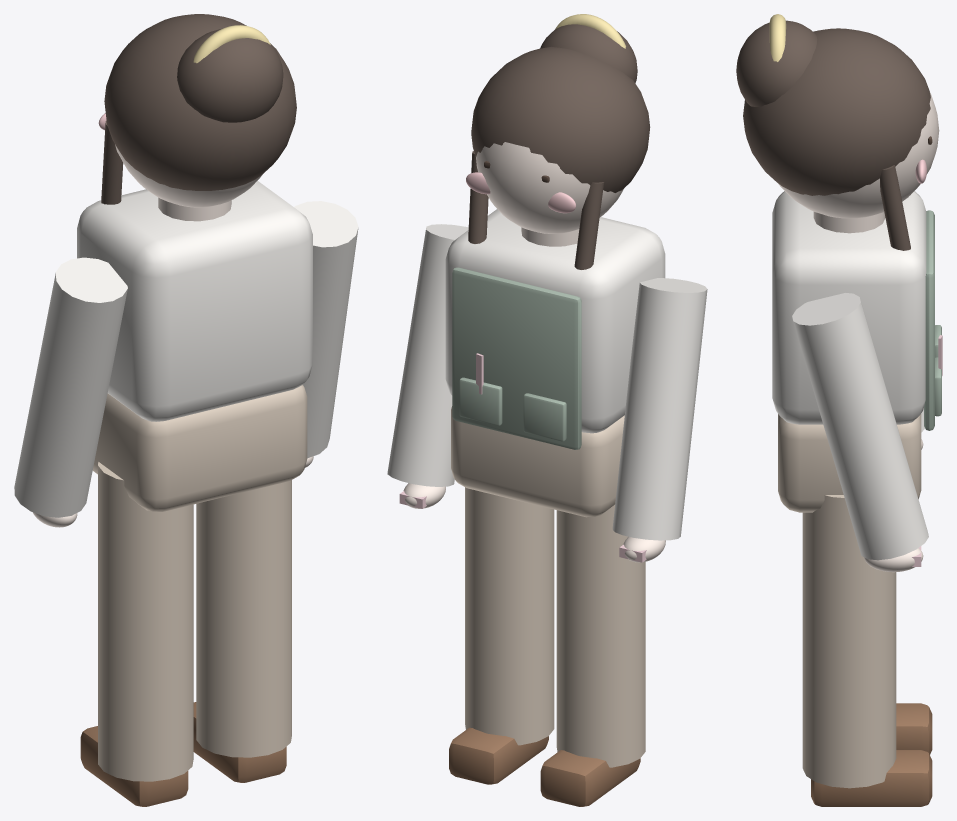
Rendered from eliya-artisan.glb.
The picture shows the model from 3 angles, left to right: view 1: azimuth 30°, elevation 25°; view 2: azimuth 150°, elevation 25°; view 3: azimuth 270°, elevation 25°; orthographic projection. The views are drawn at different scales.
Parts seen in each view (by area): view 1: eliya_Body, eliya_LeftLeg, eliya_RightLeg, eliya_HairTop, eliya_LeftArm, eliya_Hips, eliya_RightArm, eliya_HairBun, eliya_LeftShoe, eliya_RightShoe, eliya_Head, eliya_Tendril_-0.12 (+2 smaller); view 2: eliya_RightLeg, eliya_LeftLeg, eliya_Body, eliya_LeftArm, eliya_HairTop, eliya_ApronFront, eliya_Hips, eliya_RightArm, eliya_Head, eliya_LeftShoe, eliya_RightShoe, eliya_HairBun (+8 smaller); view 3: eliya_RightLeg, eliya_Body, eliya_HairTop, eliya_RightArm, eliya_Hips, eliya_HairBun, eliya_RightShoe, eliya_Head, eliya_ApronFront, eliya_LeftShoe, eliya_Tendril_0.12, eliya_Neck (+2 smaller).
Part boxes in pixels (x1,y1,x2,y2): eliya_Body: [77, 180, 312, 421]; eliya_LeftLeg: [98, 462, 193, 781]; eliya_RightLeg: [196, 480, 291, 757]; eliya_HairTop: [104, 14, 296, 190]; eliya_LeftArm: [14, 257, 127, 517]; eliya_Hips: [92, 385, 307, 511]; eliya_RightArm: [294, 201, 358, 458]; eliya_HairBun: [177, 28, 283, 122]; eliya_LeftShoe: [80, 726, 188, 806]; eliya_RightShoe: [193, 702, 286, 782]; eliya_Head: [115, 144, 262, 207]; eliya_Tendril_-0.12: [101, 120, 123, 204]; eliya_RightLeg: [465, 487, 554, 745]; eliya_LeftLeg: [556, 504, 645, 767]; eliya_Body: [445, 209, 665, 433]; eliya_LeftArm: [612, 278, 707, 540]; eliya_HairTop: [471, 46, 650, 192]; eliya_ApronFront: [452, 267, 581, 449]; eliya_Hips: [451, 406, 624, 517]; eliya_RightArm: [387, 224, 468, 486]; eliya_Head: [476, 142, 623, 233]; eliya_LeftShoe: [540, 750, 640, 806]; eliya_RightShoe: [449, 727, 548, 784]; eliya_HairBun: [540, 24, 637, 83]; eliya_RightLeg: [802, 495, 896, 788]; eliya_Body: [772, 191, 926, 424]; eliya_HairTop: [743, 28, 930, 195]; eliya_RightArm: [792, 293, 928, 560]; eliya_Hips: [778, 413, 921, 512]; eliya_HairBun: [736, 20, 817, 106]; eliya_RightShoe: [811, 750, 932, 806]; eliya_Head: [778, 92, 939, 218]; eliya_ApronFront: [924, 210, 934, 430]; eliya_LeftShoe: [896, 703, 932, 754]; eliya_Tendril_0.12: [880, 165, 910, 250]; eliya_Neck: [813, 212, 885, 233].
Bounding box in the file's own units: 0.6223 × 1.52 × 0.3745.
